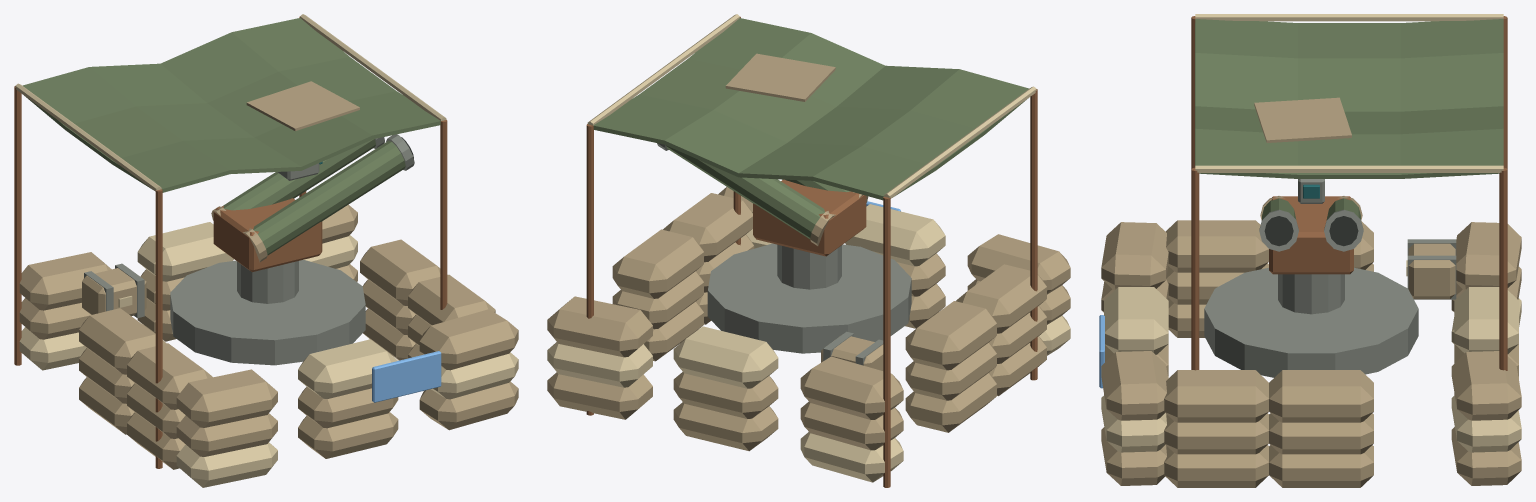
The model's file is stinger_site.glb.
3 views of the same model, side by side, from view 1: azimuth 30°, elevation 25°; view 2: azimuth 150°, elevation 25°; view 3: azimuth 270°, elevation 25° (orthographic). The views are drawn at different scales.
Visible parts, largest first — view 1: Hull, Turret; view 2: Hull, Turret; view 3: Hull, Turret.
Boxes of the visible parts, x1,y1,x2,y2 form: Hull: (14, 14, 518, 487); Turret: (211, 134, 414, 303); Hull: (547, 14, 1070, 487); Turret: (657, 143, 868, 289); Hull: (1099, 14, 1521, 487); Turret: (1259, 179, 1363, 314).
Size of the model in its own units: 1.89 by 1.52 by 1.9.
